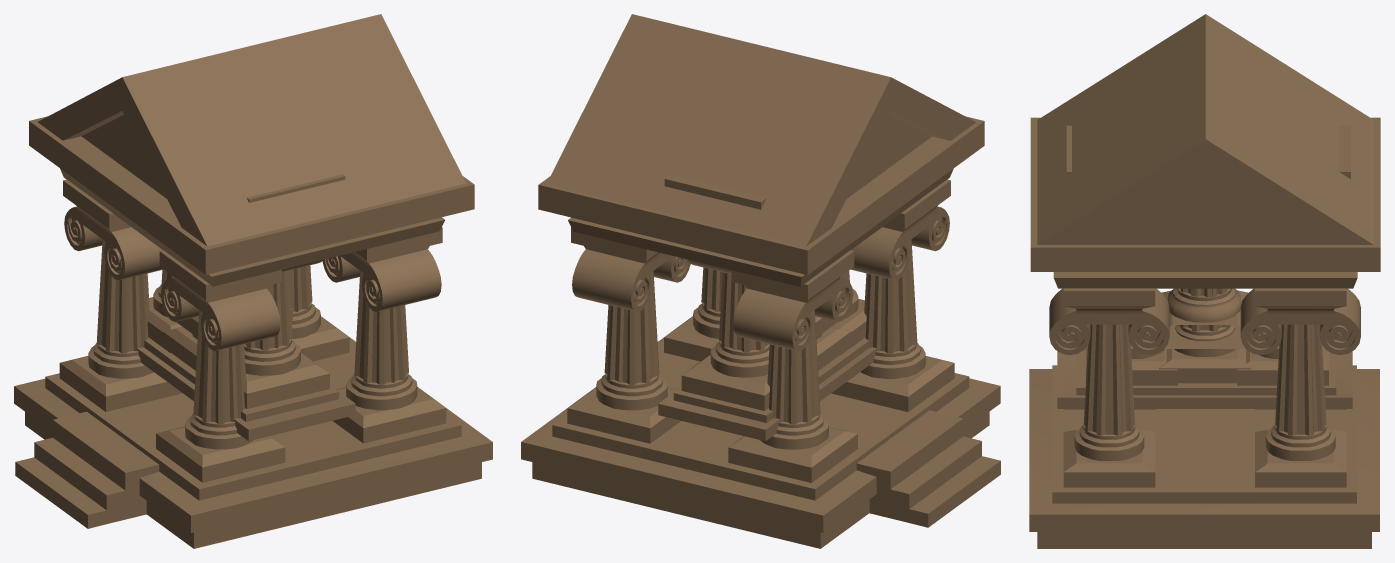
File: Atlantis.fbx
The picture shows the model from 3 angles, left to right: view 1: azimuth 30°, elevation 25°; view 2: azimuth 150°, elevation 25°; view 3: azimuth 270°, elevation 25°; orthographic projection.
Visible parts, largest first — view 1: SM_AtlantisBuilding, SM_DuoPillar, SM_Pillar; view 2: SM_AtlantisBuilding, SM_DuoPillar, SM_Pillar; view 3: SM_AtlantisBuilding, SM_DuoPillar, SM_BrokenPillar, SM_Pillar.
Part boxes in pixels (box(x1,y1,x2,y2)): SM_AtlantisBuilding: box(14, 14, 492, 548); SM_DuoPillar: box(137, 174, 355, 441); SM_Pillar: box(163, 327, 197, 370); SM_AtlantisBuilding: box(521, 14, 1000, 548); SM_DuoPillar: box(658, 174, 876, 441); SM_Pillar: box(816, 327, 851, 370); SM_AtlantisBuilding: box(1029, 14, 1380, 548); SM_DuoPillar: box(1057, 125, 1352, 408); SM_BrokenPillar: box(1162, 288, 1248, 348); SM_Pillar: box(1159, 288, 1250, 383).
Size of the model in its own units: 545 by 599 by 474.
